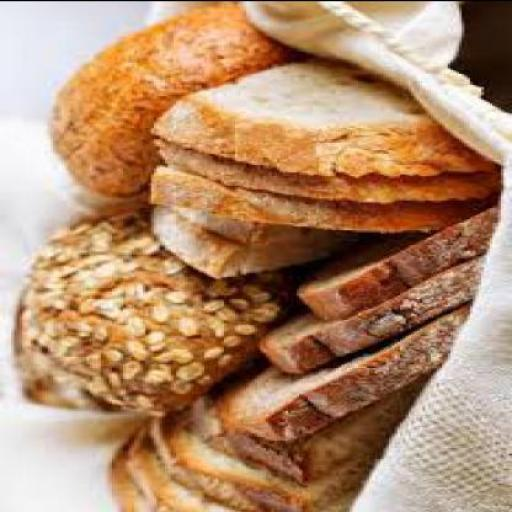biodegradable: (11, 203, 288, 414), (45, 2, 291, 199), (146, 62, 500, 177), (204, 302, 468, 443), (154, 386, 418, 511), (179, 374, 434, 484), (252, 257, 486, 376), (145, 165, 490, 237), (152, 136, 504, 202), (291, 208, 495, 320), (148, 206, 350, 278), (120, 418, 242, 511), (157, 200, 392, 242), (104, 424, 178, 510)
